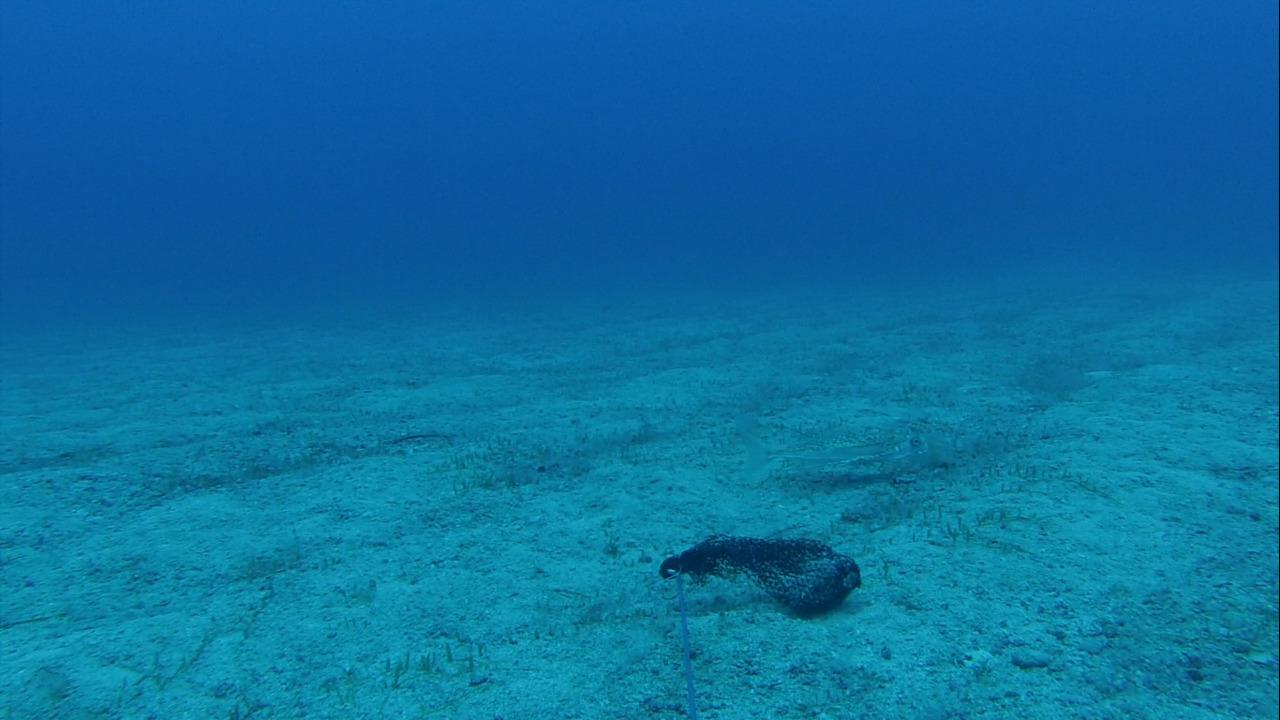dactylopterus: (726, 416, 931, 490)
